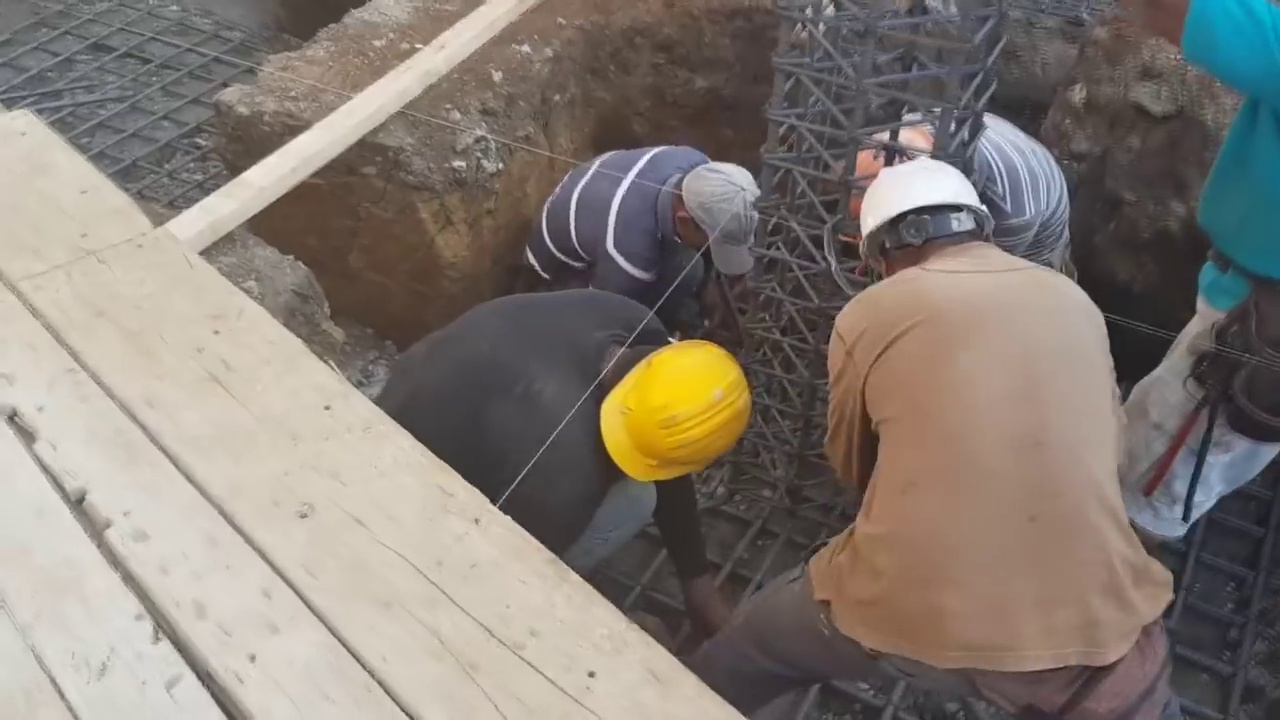helmet: (598, 340, 751, 482), (860, 146, 994, 250)
helmet-off: (677, 165, 759, 282)
helmet-on: (590, 327, 755, 508), (853, 146, 996, 279), (856, 118, 964, 184), (857, 122, 934, 179)
person: (774, 155, 1159, 703), (404, 309, 760, 642), (528, 150, 783, 344), (1172, 0, 1279, 419), (853, 111, 1079, 268)
